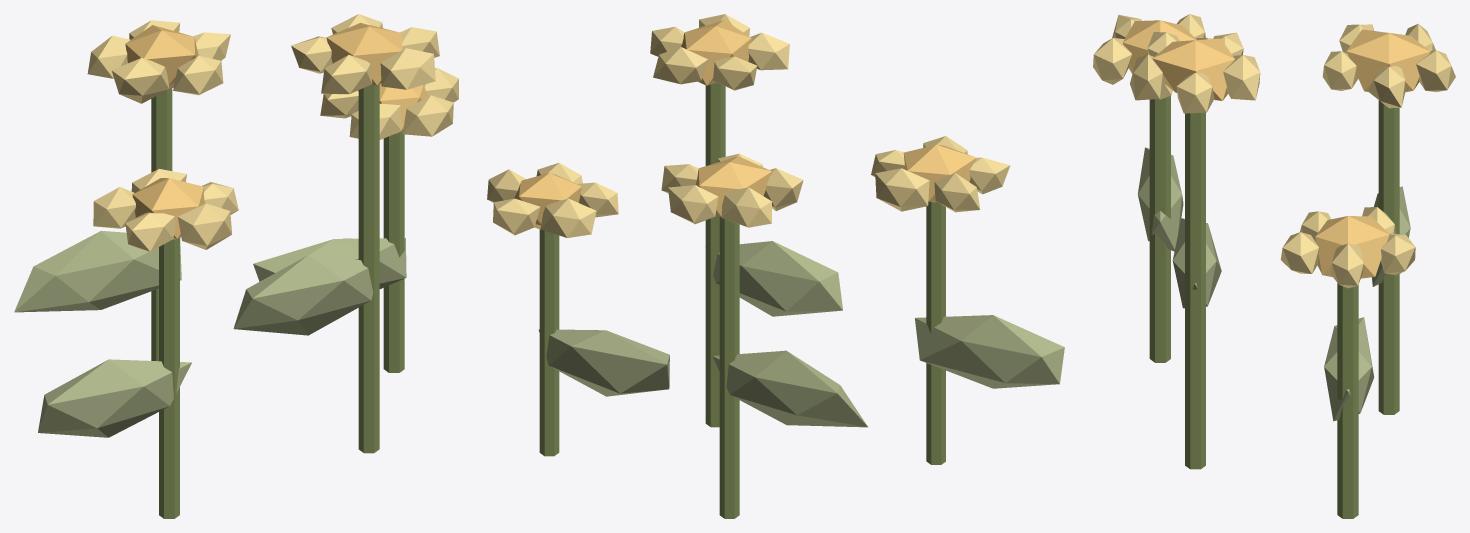
Rendered from flowers_coastal_a.glb.
The picture shows the model from 3 angles, left to right: view 1: azimuth 30°, elevation 25°; view 2: azimuth 150°, elevation 25°; view 3: azimuth 270°, elevation 25°; orthographic projection. The views are drawn at different scales.
Visible parts, largest first — view 1: flowers_coastal_a; view 2: flowers_coastal_a; view 3: flowers_coastal_a.
Boxes of the visible parts, x1,y1,x2,y2 form: flowers_coastal_a: (14, 14, 458, 518); flowers_coastal_a: (487, 14, 1064, 518); flowers_coastal_a: (1093, 14, 1455, 518).
Size of the model in its own units: 1.02 by 0.8 by 0.6189.
